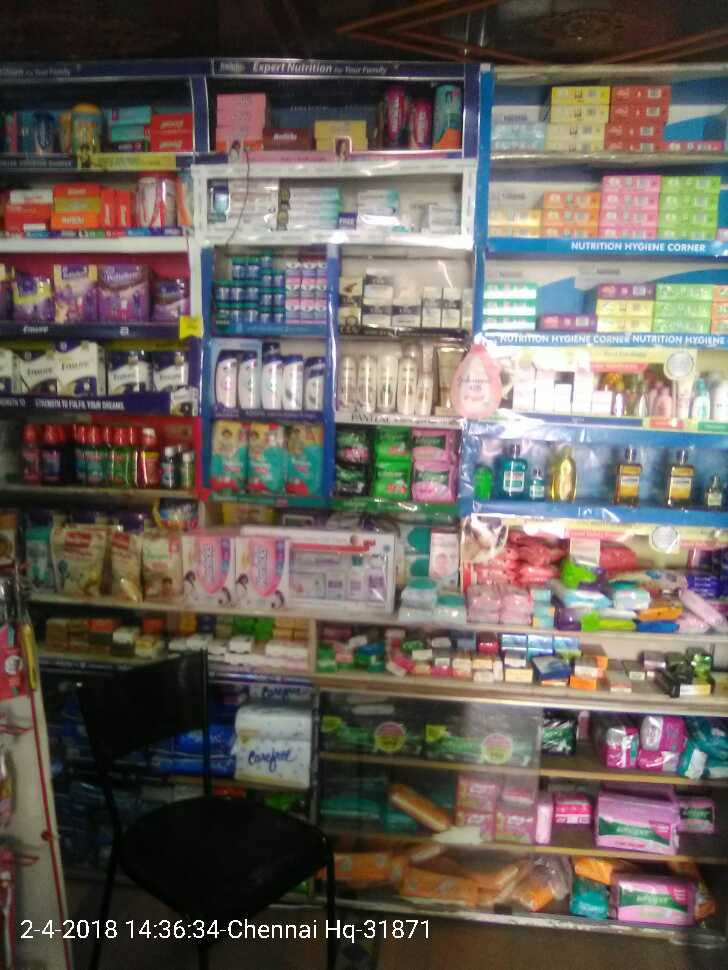vicks: (243, 277, 257, 301), (312, 277, 326, 300), (232, 255, 246, 278), (229, 302, 245, 322), (245, 301, 260, 322), (229, 279, 243, 301), (258, 247, 273, 266), (285, 261, 303, 276), (214, 280, 229, 298), (286, 276, 299, 296), (299, 277, 312, 296), (246, 255, 257, 277), (287, 302, 303, 317), (261, 306, 273, 324), (303, 261, 317, 276), (303, 302, 315, 319), (273, 307, 285, 324), (315, 301, 326, 319), (260, 270, 272, 285), (318, 261, 326, 276), (272, 269, 283, 277)
